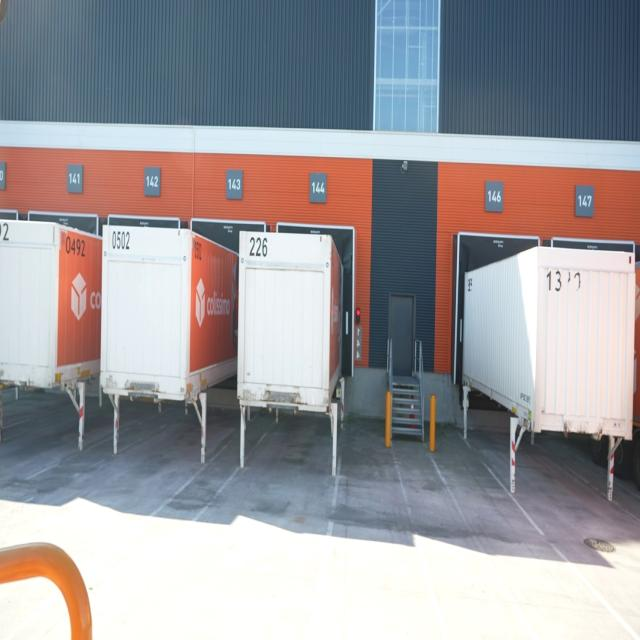Code: (63, 230, 87, 258), (247, 238, 272, 264), (110, 229, 132, 253)
